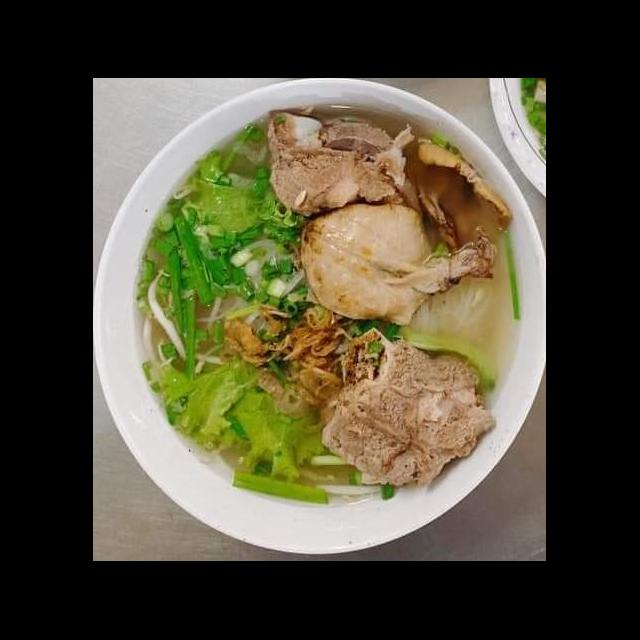hu tieu: (208, 226, 304, 360), (400, 266, 496, 346)
thit heo: (316, 326, 504, 494), (262, 100, 424, 224)
